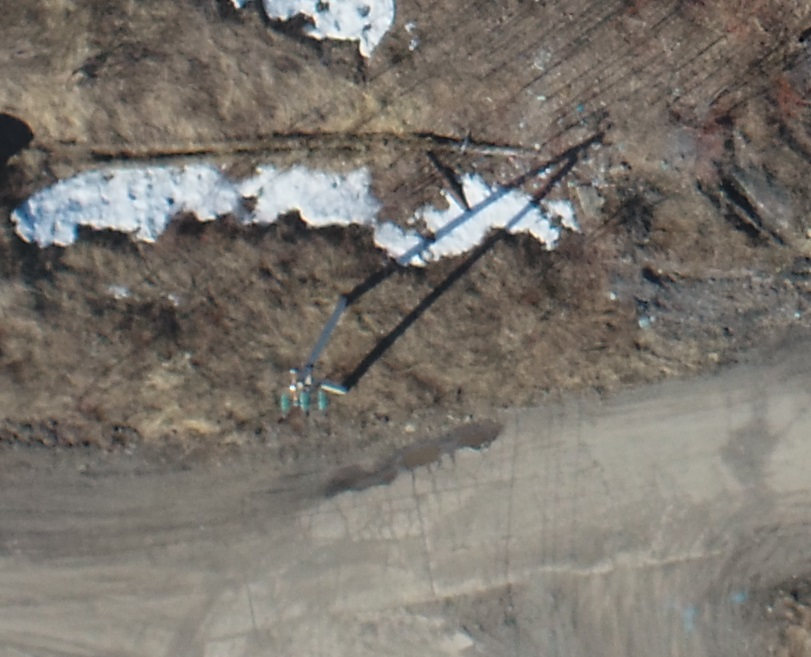opora: (275, 274, 396, 430)
